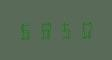eight: (37, 20, 55, 40)
five: (56, 19, 74, 39)
six: (18, 20, 36, 40)
zero: (75, 19, 93, 39)
